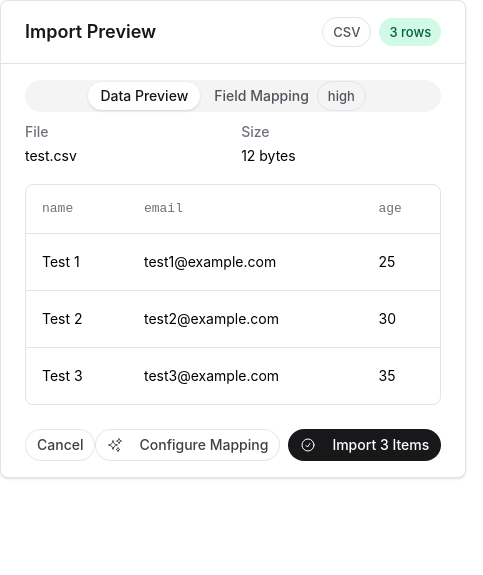
it: ImportPreviewWithMapping › Field Mapping Tab › displays mapping quality indicator
expect the button "Data Preview" is shown: met, box [88,82,200,110]
Click the text "Field Mapping" at coordinates (262, 96), box [214,84,309,108]
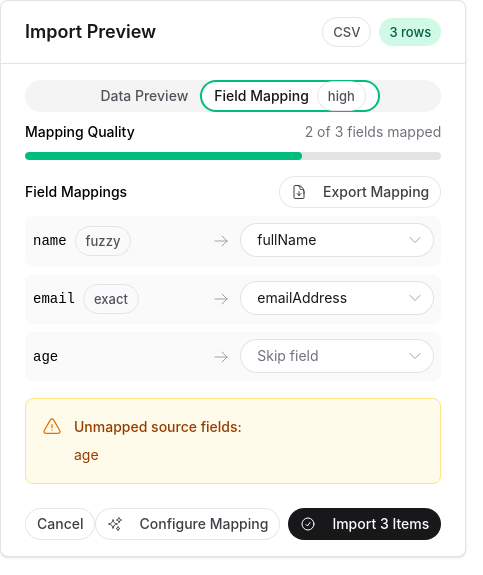
expect the text "Mapping Quality" is shown: met, box [25,120,135,144]
expect the text "2 of 3 fields mapped" is shown: met, box [305,120,441,144]
